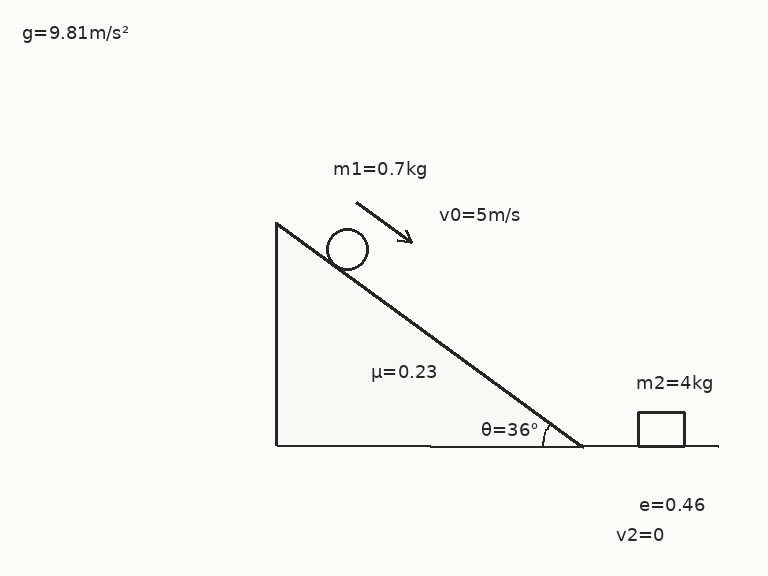ball: (324, 226, 370, 272)
block: (636, 410, 686, 448)
ramp: (274, 221, 585, 448)
